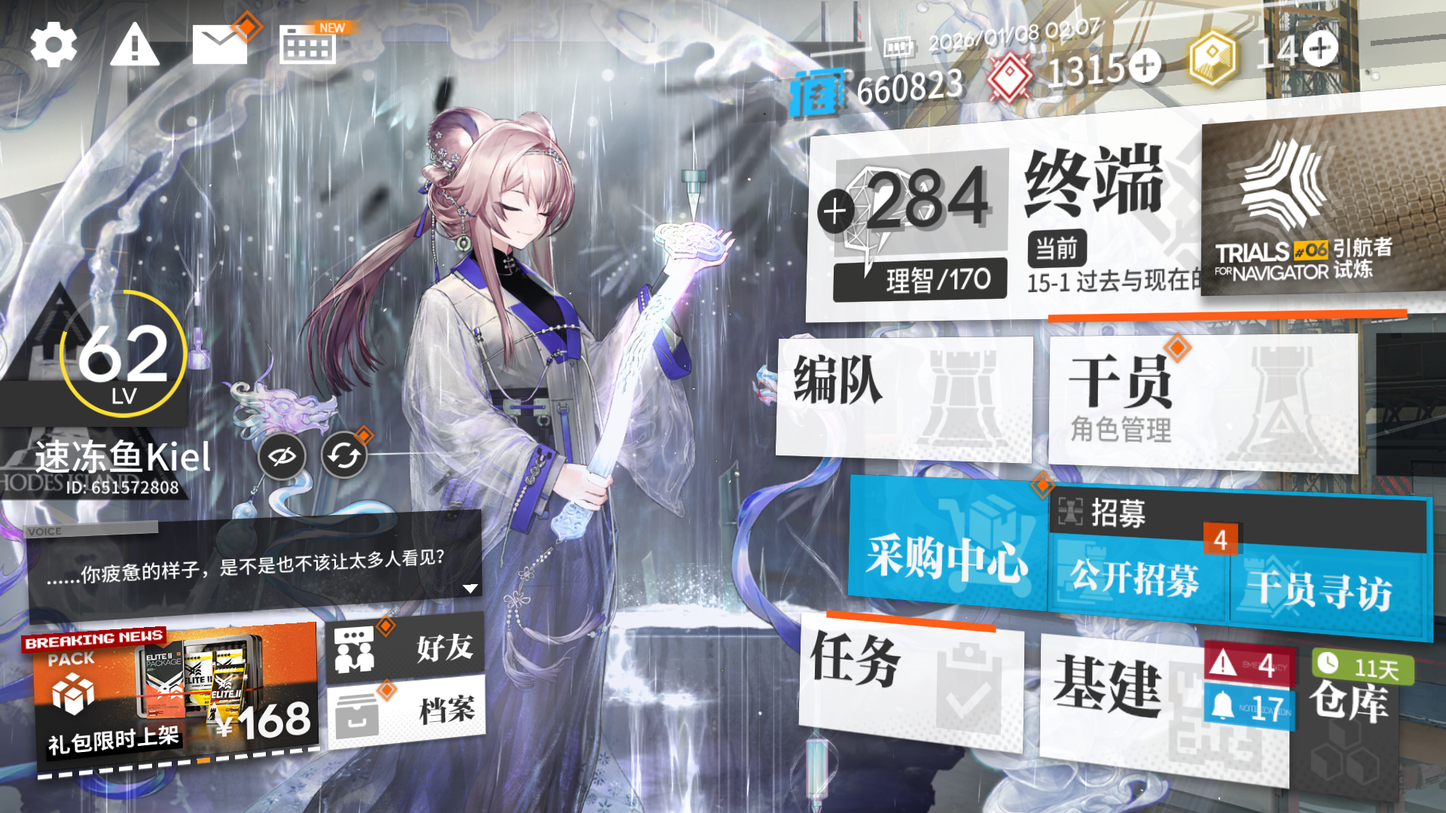home_button: (994, 126, 1171, 234)
infrastructure_button: (1048, 632, 1294, 762)
